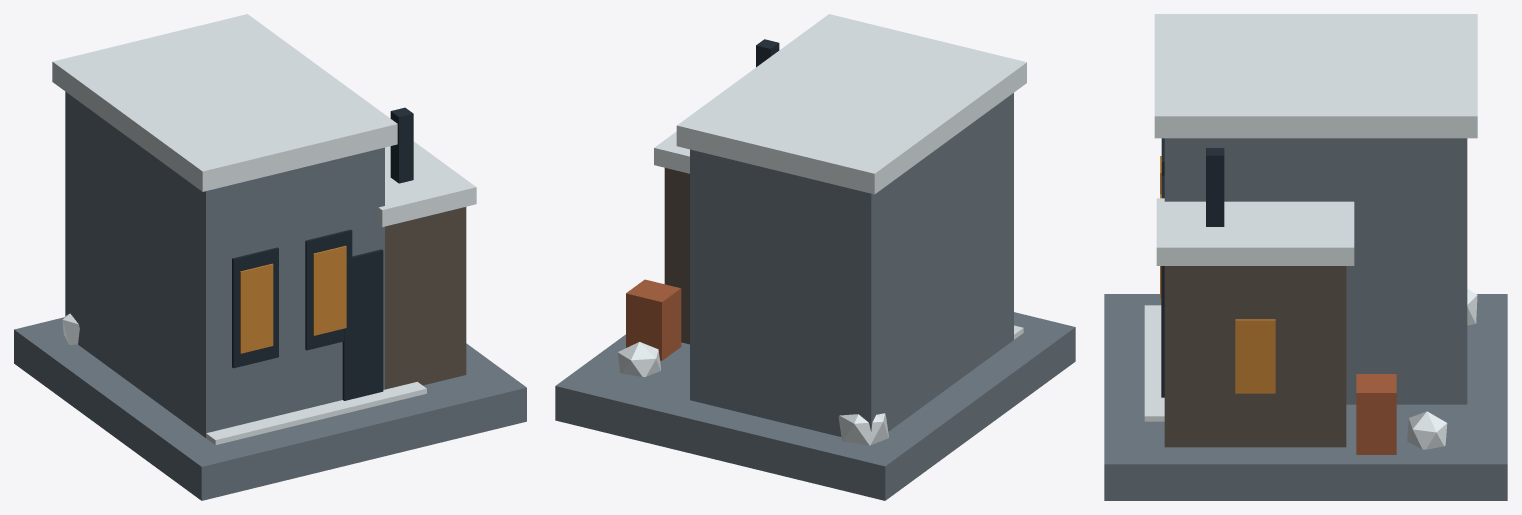
File: bunkhouse.glb
3 renders of one model, left to right at view 1: azimuth 30°, elevation 25°; view 2: azimuth 150°, elevation 25°; view 3: azimuth 270°, elevation 25°, orthographic. The views are drawn at different scales.
Parts seen in each view (by area): view 1: bunkhouse; view 2: bunkhouse; view 3: bunkhouse.
Part boxes in pixels (bbox=[...]): bunkhouse: bbox=[14, 14, 526, 500]; bunkhouse: bbox=[555, 14, 1075, 500]; bunkhouse: bbox=[1104, 14, 1507, 500].
Bounding box in the file's own units: 1 × 0.9 × 1.
Materials: 1 (1 with a texture image).
